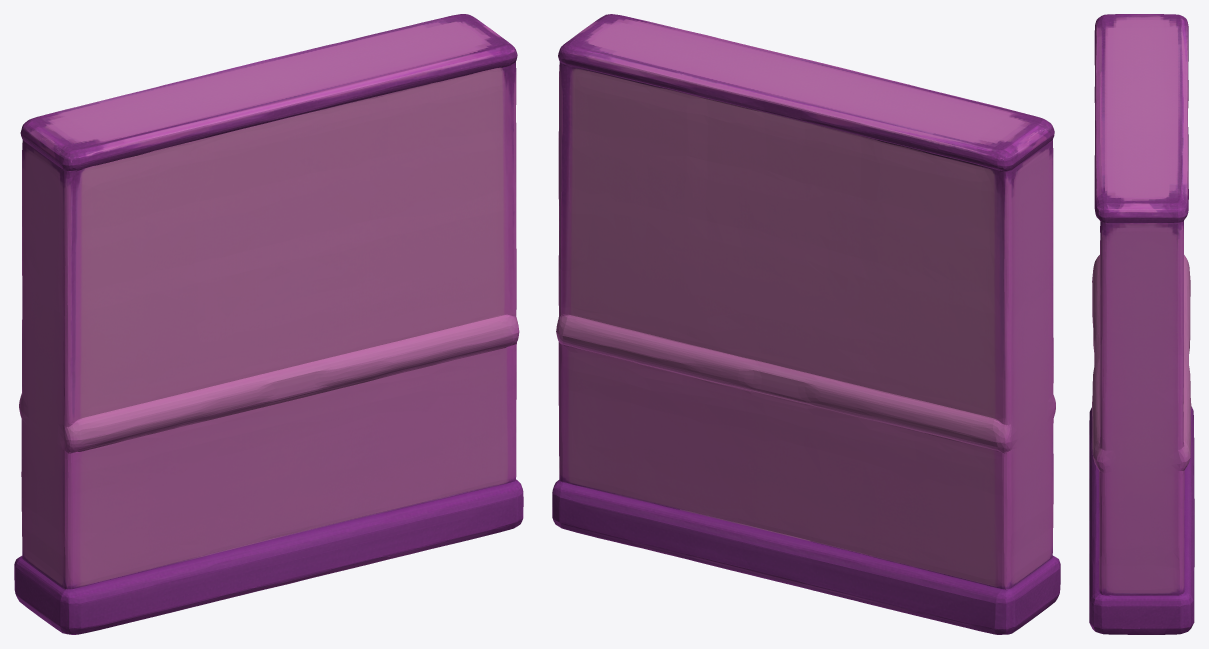
3 views of the same model, side by side, from view 1: azimuth 30°, elevation 25°; view 2: azimuth 150°, elevation 25°; view 3: azimuth 270°, elevation 25° (orthographic). The views are drawn at different scales.
Parts seen in each view (by area): view 1: world; view 2: world; view 3: world.
Part boxes in pixels (<box>): world: <box>14,14,523,634</box>; world: <box>552,14,1060,634</box>; world: <box>1089,14,1194,634</box>.
Size of the model in its own units: 1 by 1 by 0.2223.
Materials: 1 (1 with a texture image).
